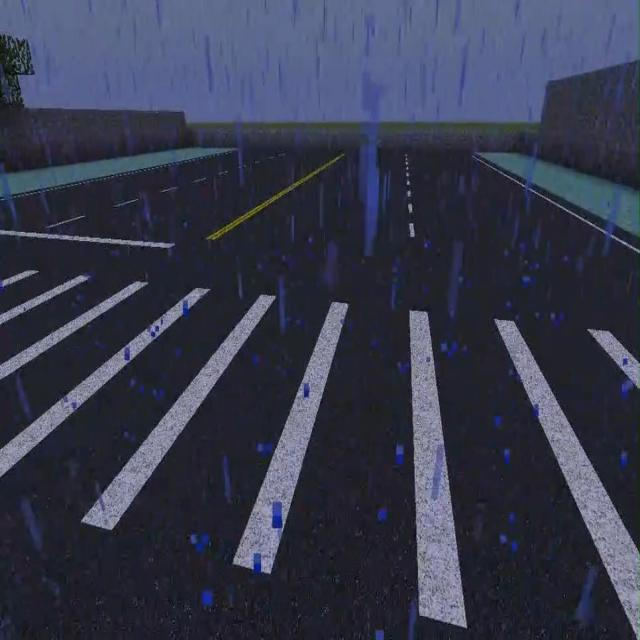8: (0, 260, 639, 639)
crosswalk: (2, 149, 639, 331), (1, 510, 462, 638)
road: (481, 150, 639, 239), (2, 145, 230, 193)
